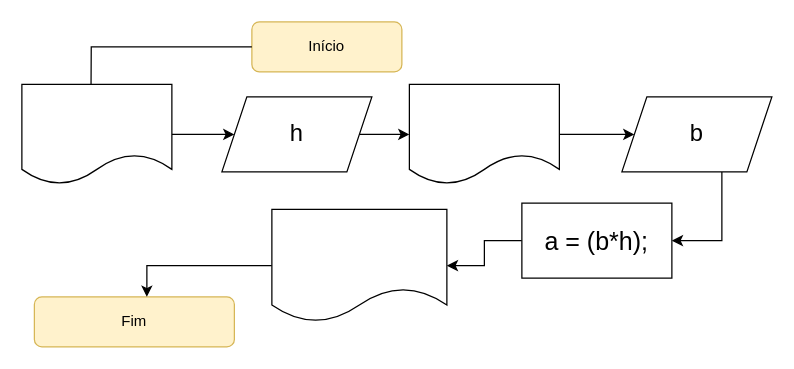
Image size: 794x369. Some labels were removed from this diagram. The centre of each missing label's shape, as x and y in pixels:
"A área do retangulo é:": point (359, 265)
"Digite a altura do retangulo": point (96, 133)
"Digite a base do retângulo": point (483, 133)
